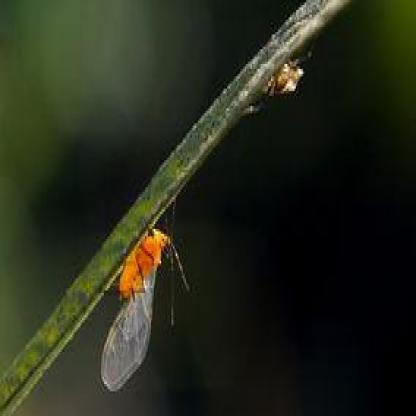aphid: (100, 214, 188, 392), (258, 49, 307, 109)
